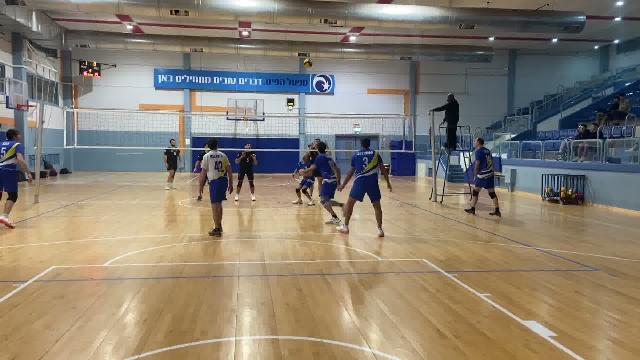ball: (301, 55, 316, 70)
